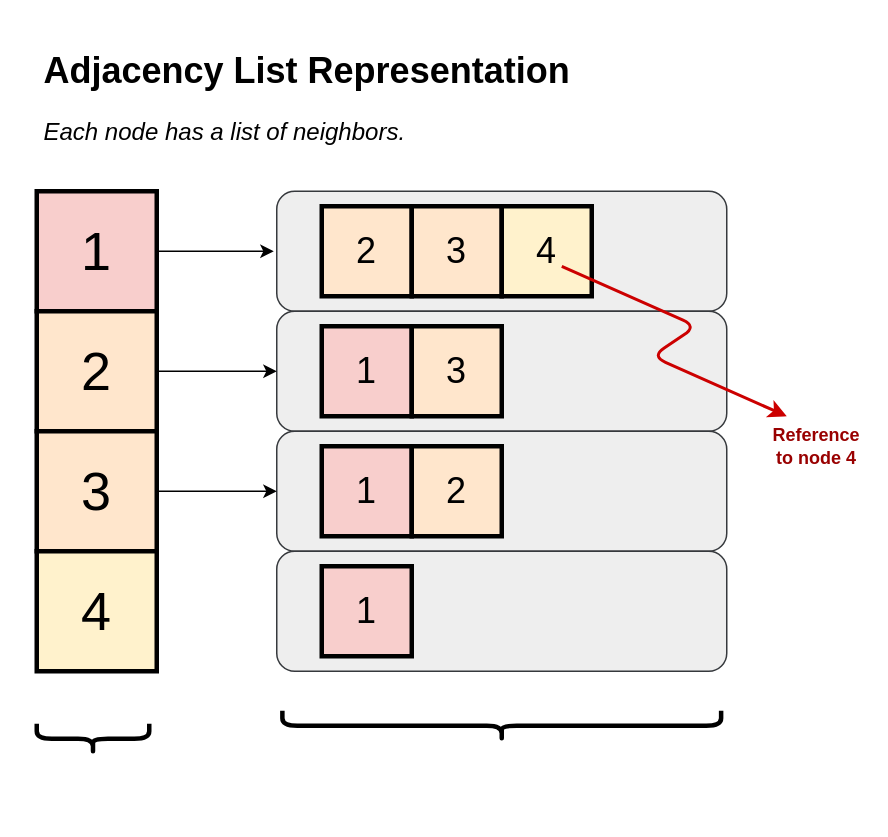
This 888x837 diagram has some shape labels left out. The shapes that lost their labels are listed below. From the top down, each one's centre as x and y in pixels, then its label:
At point (92, 738): "Nodes".
At point (501, 725): "Neighbor lists".
